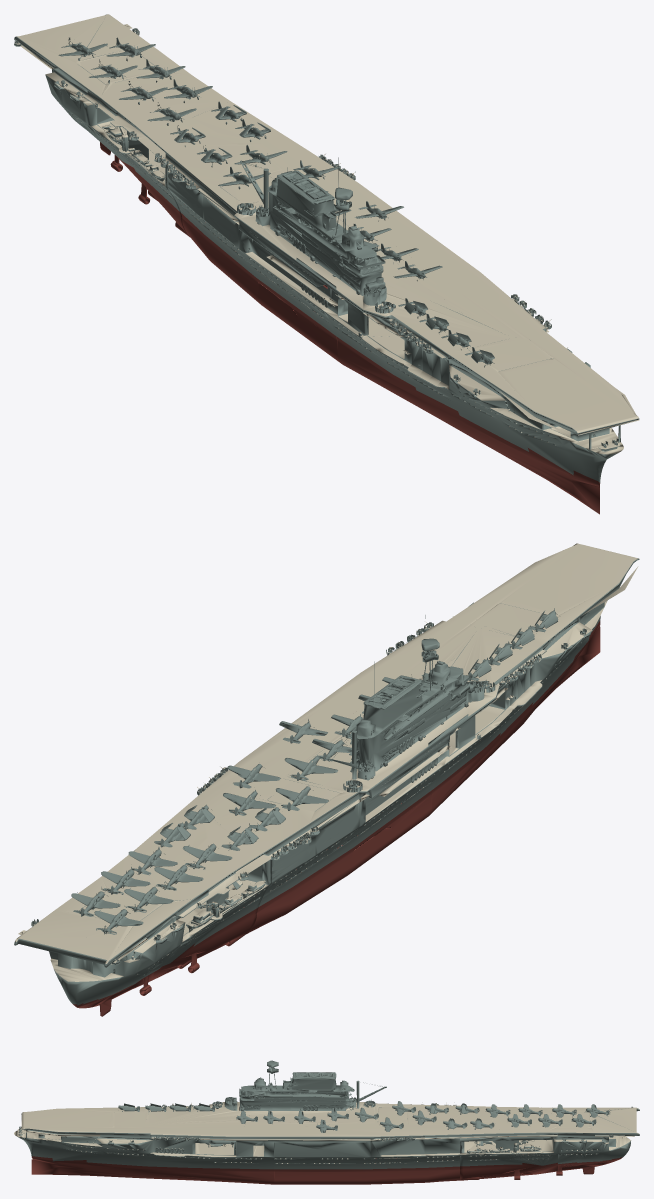
File: yorktown.glb
3 views of the same model, one above another, from view 1: azimuth 30°, elevation 25°; view 2: azimuth 150°, elevation 25°; view 3: azimuth 270°, elevation 25° (orthographic). The views are drawn at different scales.
Visible parts, largest first — view 1: Hull; view 2: Hull; view 3: Hull.
Part boxes in pixels (x1,y1,x2,y2): Hull: (14,14,639,514); Hull: (14,543,639,1016); Hull: (14,1060,639,1184).
Size of the model in its own units: 35.65 by 51.92 by 251.
